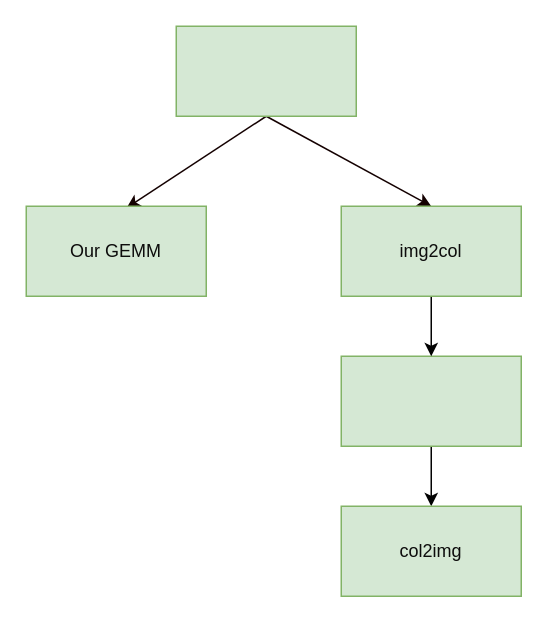
The diagram is 548 pixels wide and 623 high, and some of its shapes have lost their labels. Each missing label, with the centre of its shape:
Conv2D: the point at 265,70
cublas: the point at 430,400
